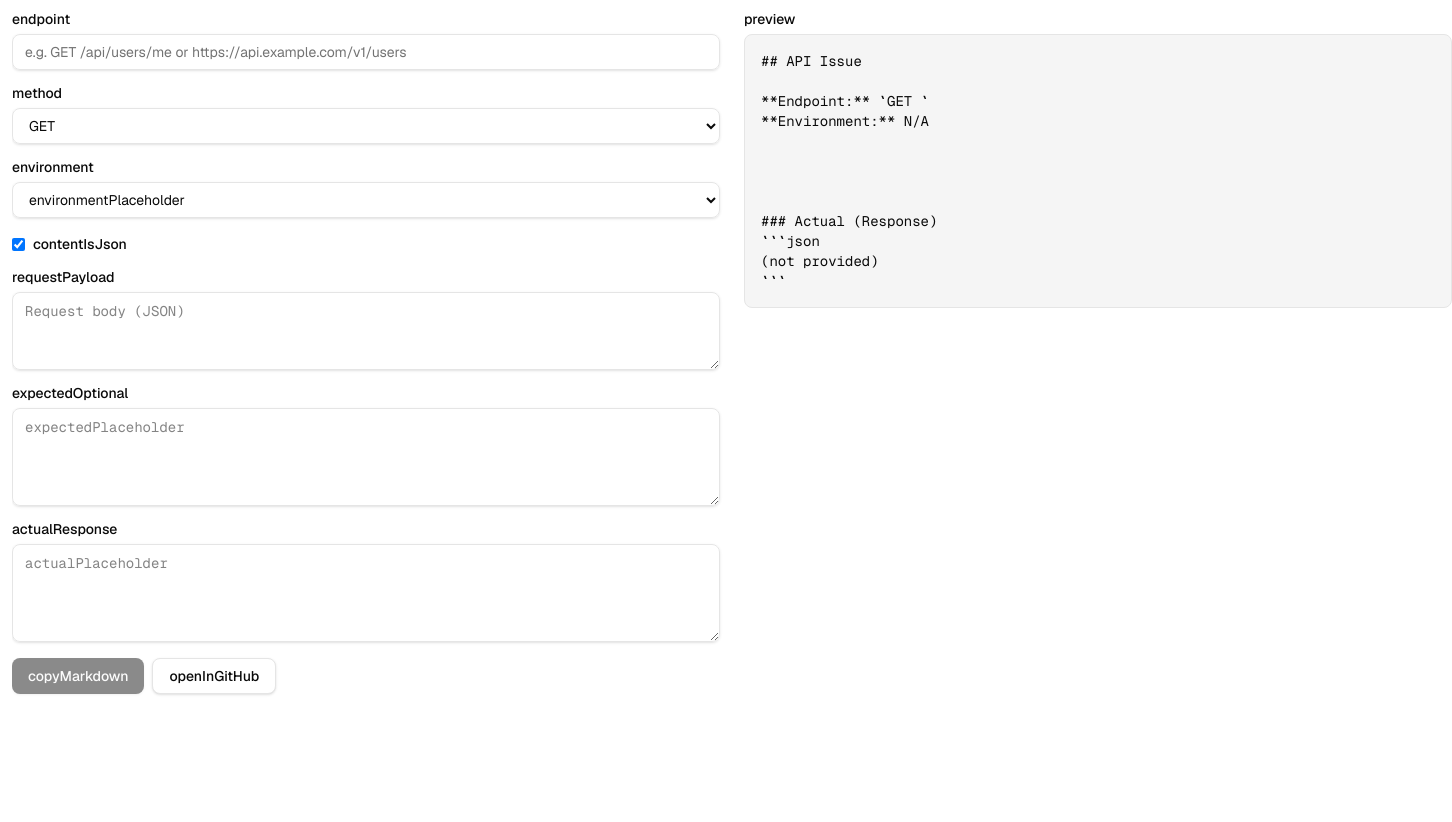
Test: ApiReporterClient › enables Copy when endpoint and method are set
Type "/api" into the field labelled "endpoint" at point(366, 52), box [12,34,720,70]
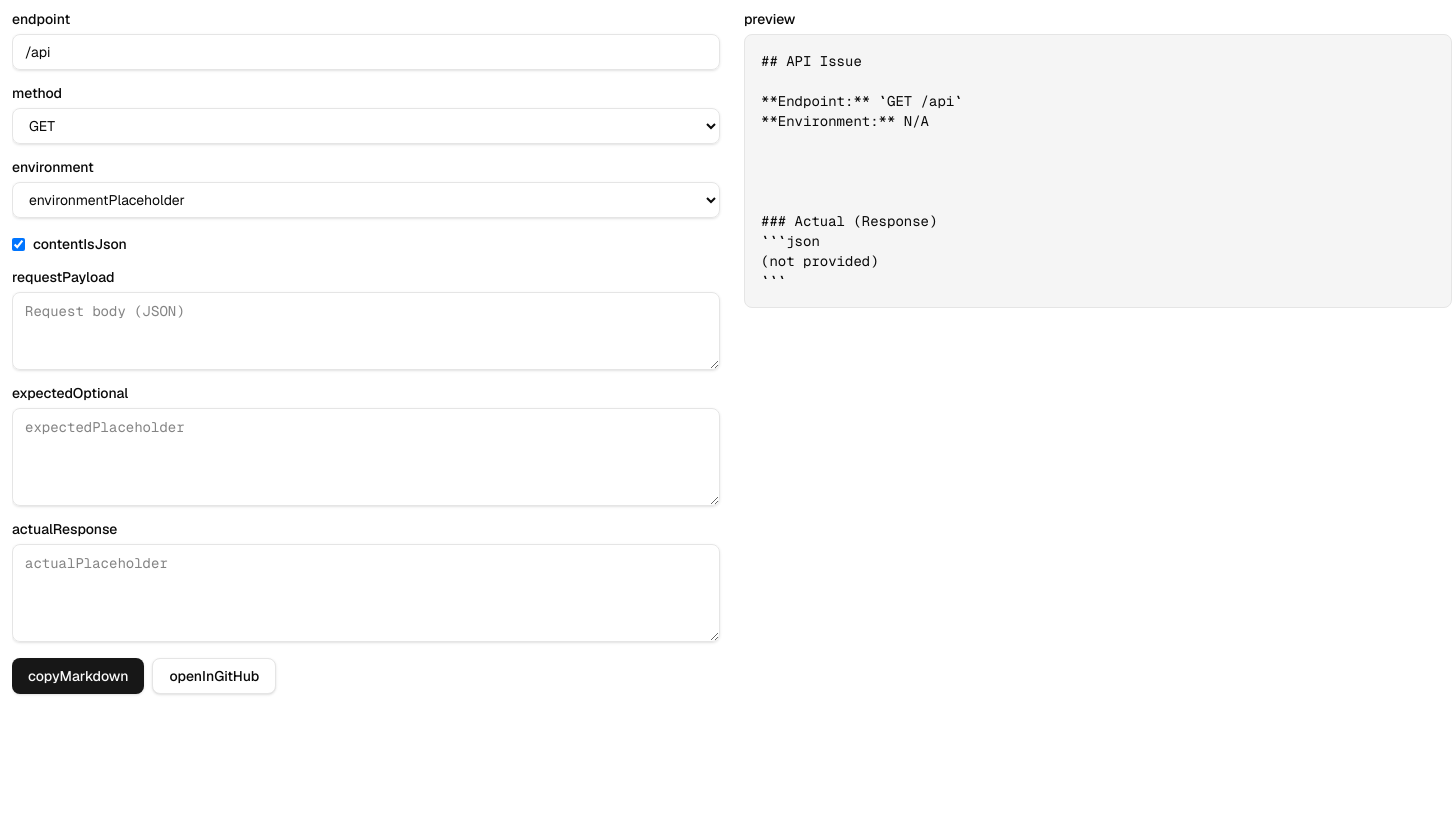
Expected: the button "copyMarkdown" is enabled, [12,658,144,694]
